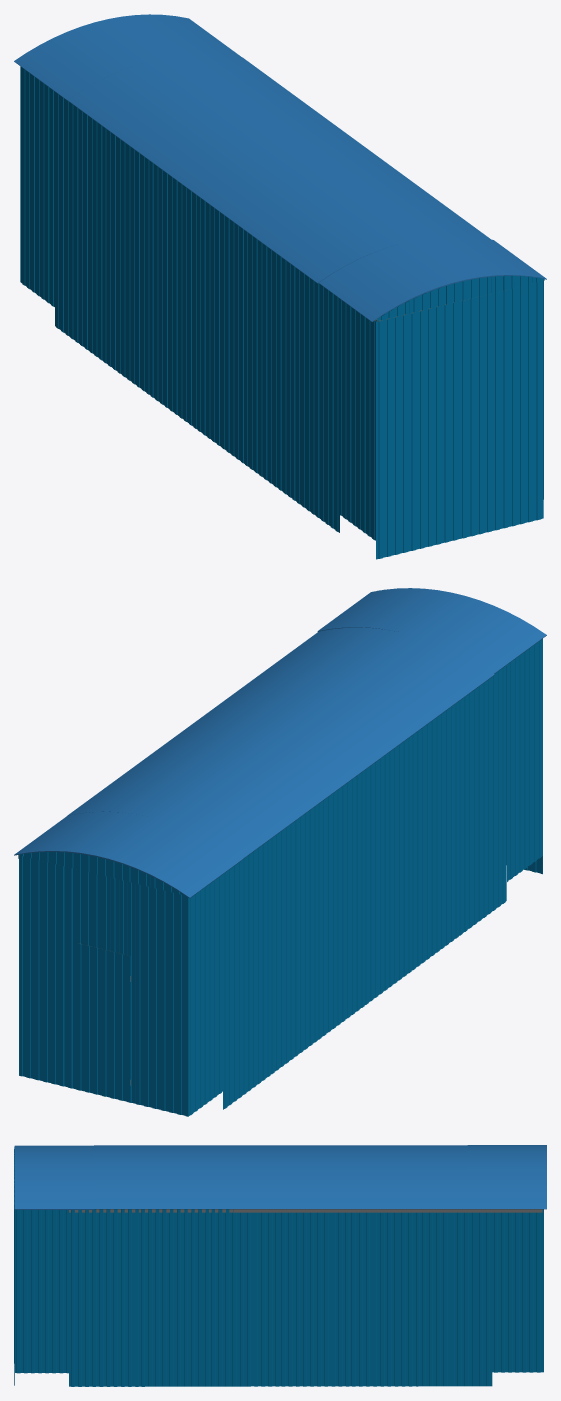
File: Phase01_CanopyMiddle.fbx
3 views of the same model, one above another, from view 1: azimuth 30°, elevation 25°; view 2: azimuth 150°, elevation 25°; view 3: azimuth 270°, elevation 25° (orthographic). The views are drawn at different scales.
Parts seen in each view (by area): view 1: крыша:крыша:784351, Проф лист — копия:Проф лист — копия:783324, Проф лист — копия:Проф лист — копия:783323, Проф лист — копия:Проф лист — копия:783310, Проф лист — копия:Проф лист — копия:783311, Проф лист — копия:Проф лист — копия:783312, Проф лист — копия:Проф лист — копия:783315, Проф лист — копия:Проф лист — копия:783313, Проф лист — копия:Проф лист — копия:783314, крыша:крыша:783339, крыша:крыша:784313, Проф лист 870:Проф лист 870:783356 (+2 smaller); view 2: крыша:крыша:784351, Проф лист:Проф лист:783306, Проф лист:Проф лист:783308, Проф лист — копия:Проф лист — копия:783310, Проф лист — копия:Проф лист — копия:783311, Проф лист — копия:Проф лист — копия:783312, Проф лист — копия:Проф лист — копия:783313, Проф лист — копия:Проф лист — копия:783315, Проф лист — копия:Проф лист — копия:783314, RAL 5015 (×2), крыша:крыша:784313, крыша:крыша:783339 (+2 smaller); view 3: крыша:крыша:784351, Проф лист — копия:Проф лист — копия:783317, Проф лист — копия:Проф лист — копия:783321, Проф лист — копия:Проф лист — копия:783320, Проф лист — копия:Проф лист — копия:783319, Проф лист — копия:Проф лист — копия:783318, Проф лист — копия:Проф лист — копия:783322, Проф лист 870:Проф лист 870:783357, Проф лист 835:Проф лист 835:783316, крыша:крыша:783339, крыша:крыша:784313, Каркас крыши:Каркас крыши:783370.
Part boxes in pixels (box(x1,y1,x2,y2)): крыша:крыша:784351: box(67, 53, 490, 283); Проф лист — копия:Проф лист — копия:783324: box(460, 281, 543, 538); Проф лист — копия:Проф лист — копия:783323: box(376, 301, 459, 559); Проф лист — копия:Проф лист — копия:783310: box(55, 92, 103, 360); Проф лист — копия:Проф лист — копия:783311: box(103, 127, 150, 395); Проф лист — копия:Проф лист — копия:783312: box(150, 161, 197, 429); Проф лист — копия:Проф лист — копия:783315: box(292, 265, 339, 532); Проф лист — копия:Проф лист — копия:783313: box(197, 196, 244, 463); Проф лист — копия:Проф лист — копия:783314: box(245, 230, 292, 497); крыша:крыша:783339: box(319, 236, 546, 321); крыша:крыша:784313: box(14, 14, 240, 100); Проф лист 870:Проф лист 870:783356: box(339, 299, 375, 540); крыша:крыша:784351: box(67, 627, 494, 858); Проф лист:Проф лист:783306: box(103, 876, 188, 1116); Проф лист:Проф лист:783308: box(19, 855, 103, 1089); Проф лист — копия:Проф лист — копия:783310: box(223, 838, 271, 1109); Проф лист — копия:Проф лист — копия:783311: box(271, 804, 318, 1073); Проф лист — копия:Проф лист — копия:783312: box(318, 770, 365, 1039); Проф лист — копия:Проф лист — копия:783313: box(365, 735, 412, 1004); Проф лист — копия:Проф лист — копия:783315: box(459, 665, 506, 935); Проф лист — копия:Проф лист — копия:783314: box(412, 701, 459, 969); RAL 5015 (×2): box(19, 852, 185, 1102); крыша:крыша:784313: box(14, 811, 243, 898); крыша:крыша:783339: box(317, 588, 546, 673); крыша:крыша:784351: box(94, 1145, 467, 1209); Проф лист — копия:Проф лист — копия:783317: box(420, 1212, 492, 1386); Проф лист — копия:Проф лист — копия:783321: box(139, 1209, 209, 1386); Проф лист — копия:Проф лист — копия:783320: box(209, 1209, 279, 1386); Проф лист — копия:Проф лист — копия:783319: box(279, 1212, 349, 1386); Проф лист — копия:Проф лист — копия:783318: box(349, 1212, 419, 1386); Проф лист — копия:Проф лист — копия:783322: box(69, 1209, 138, 1386); Проф лист 870:Проф лист 870:783357: box(15, 1210, 68, 1373); Проф лист 835:Проф лист 835:783316: box(492, 1209, 543, 1372); крыша:крыша:783339: box(14, 1145, 93, 1209); крыша:крыша:784313: box(467, 1145, 546, 1209); Каркас крыши:Каркас крыши:783370: box(69, 1209, 542, 1212).
Bounding box in the file's own units: 2457 × 8599 × 3430.
